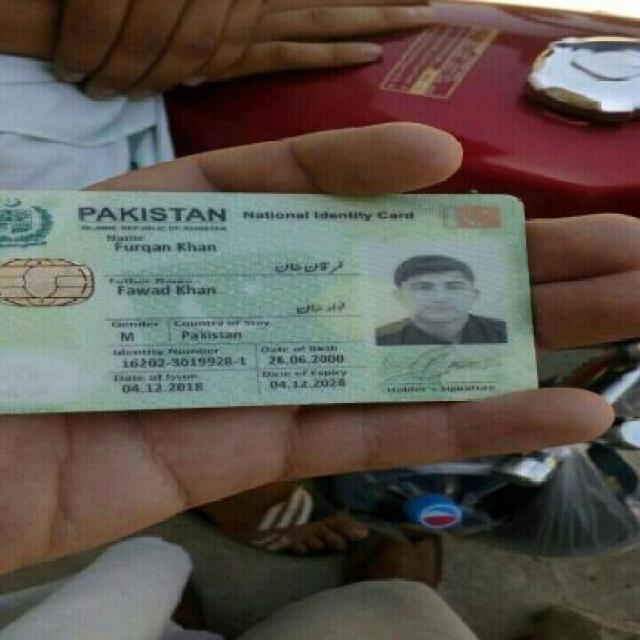Front: (4, 183, 544, 409)
